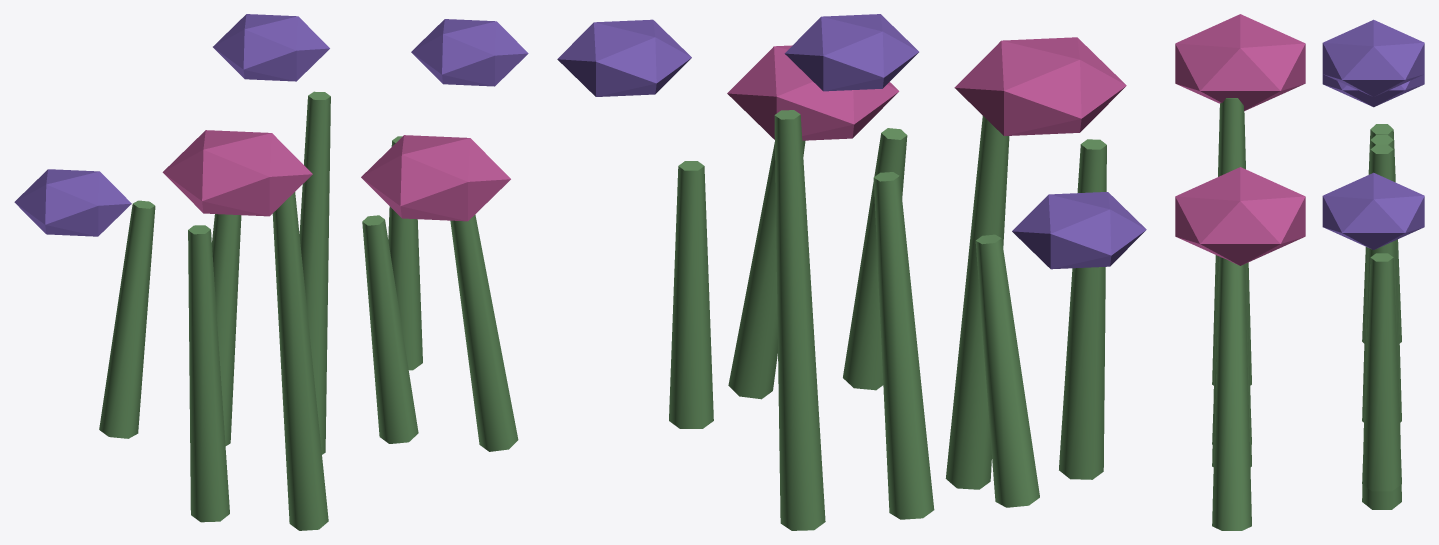
The model's file is boundary-cluster.glb.
3 renders of one model, left to right at view 1: azimuth 30°, elevation 25°; view 2: azimuth 150°, elevation 25°; view 3: azimuth 270°, elevation 25°, orthographic. The views are drawn at different scales.
Visible parts, largest first — view 1: stem_5, stem_4, bloom_1, bloom_3, stem_7, stem_0, stem_2, stem_6, bloom_2, bloom_4, bloom_0, stem_1 (+1 smaller); view 2: stem_2, stem_1, bloom_1, stem_5, stem_4, stem_0, stem_3, bloom_3, bloom_4, bloom_0, bloom_2, stem_7 (+1 smaller); view 3: bloom_3, stem_7, bloom_1, stem_3, bloom_2, bloom_4, stem_2, stem_5, bloom_0, stem_1, stem_0, stem_6 (+1 smaller).
Boxes of the visible parts, x1,y1,x2,y2 form: stem_5: (272,192,328,530); stem_4: (188,225,229,522); bloom_1: (162,130,312,216); bloom_3: (361,135,510,221); stem_7: (450,214,518,451); stem_0: (99,200,155,438); stem_2: (299,91,330,454); stem_6: (362,215,418,443); bloom_2: (213,14,329,81); bloom_4: (411,19,528,86); bloom_0: (14,169,131,236); stem_1: (212,214,241,445); stem_2: (774,110,825,530); stem_1: (873,172,934,519); bloom_1: (954,37,1126,135); stem_5: (945,116,1009,489); stem_4: (1059,139,1106,479); stem_0: (975,234,1039,507); stem_3: (669,161,713,428); bloom_3: (727,45,899,140); bloom_4: (557,19,691,96); bloom_0: (1012,192,1146,269); bloom_2: (784,14,918,91); stem_7: (728,140,805,399); bloom_3: (1175,167,1305,265); stem_7: (1212,256,1251,530); bloom_1: (1175,14,1305,111); stem_3: (1362,253,1401,491); bloom_2: (1322,19,1424,96); bloom_4: (1322,172,1424,249); stem_2: (1362,144,1401,509); stem_5: (1212,98,1251,466); bloom_0: (1322,74,1424,107); stem_1: (1362,135,1401,422); stem_0: (1362,124,1401,343); stem_6: (1212,256,1251,445).
Size of what is drawn, in the model's own units: 1.71 by 1.49 by 0.7488.
